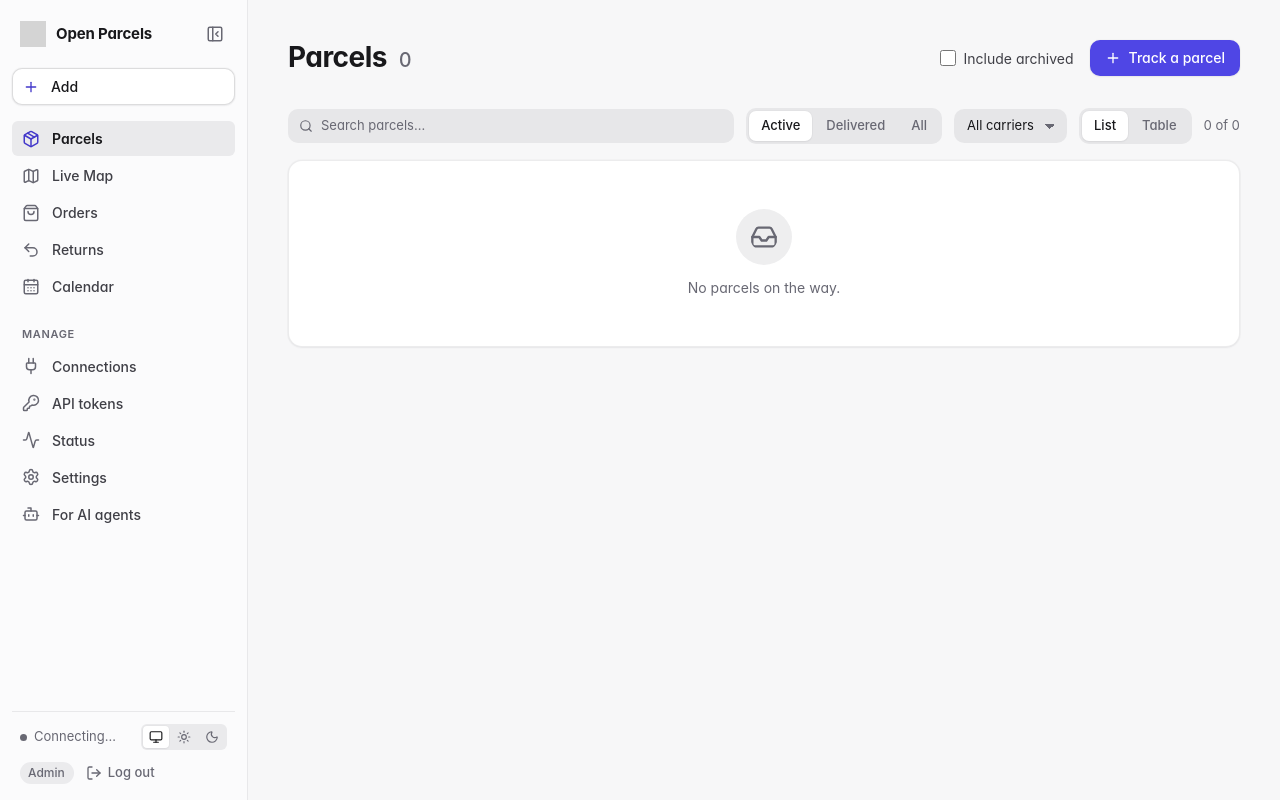
Test case: parcel list › adds a parcel with carrier detection and sends the CSRF header
Click the button "Track a parcel" at (1165,58), box [1090,40,1240,76]
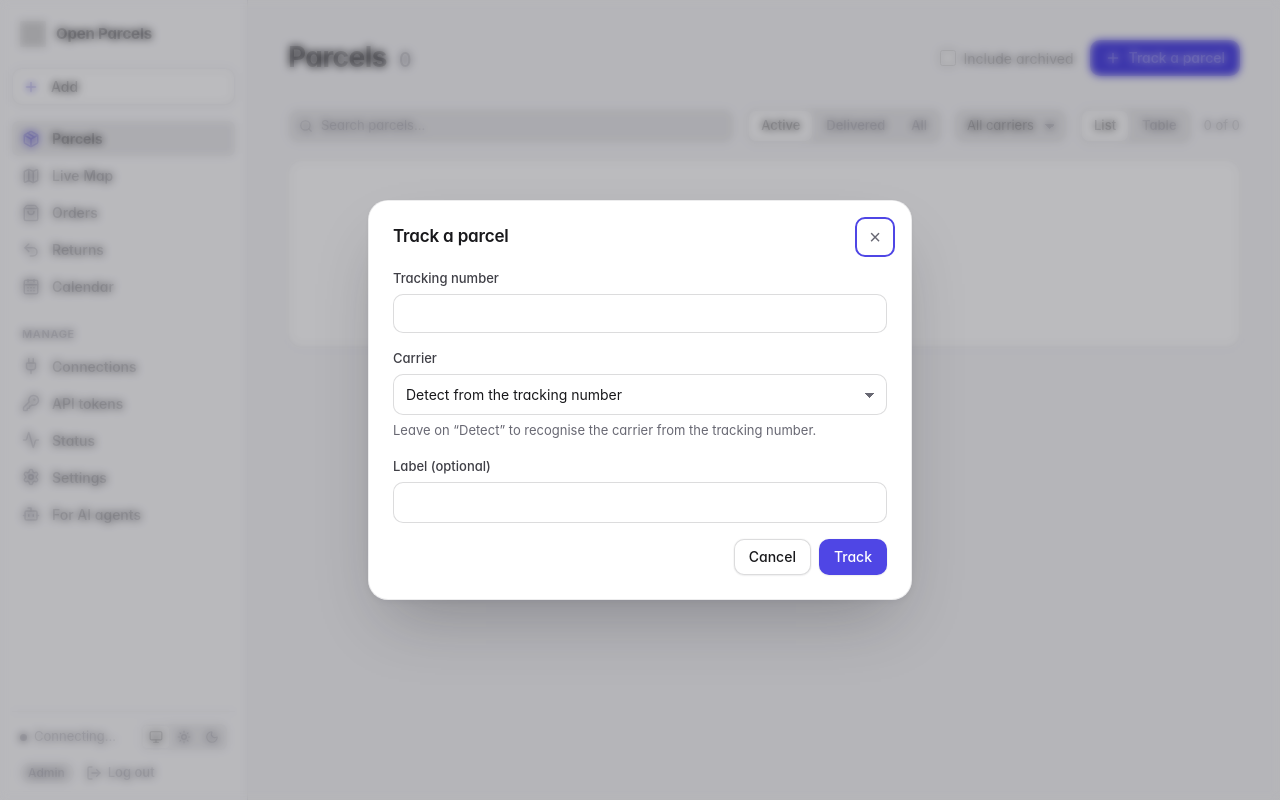
Type " TEST0000000009 " into the field labelled "Tracking number" at (640,314), box [393,294,887,333]
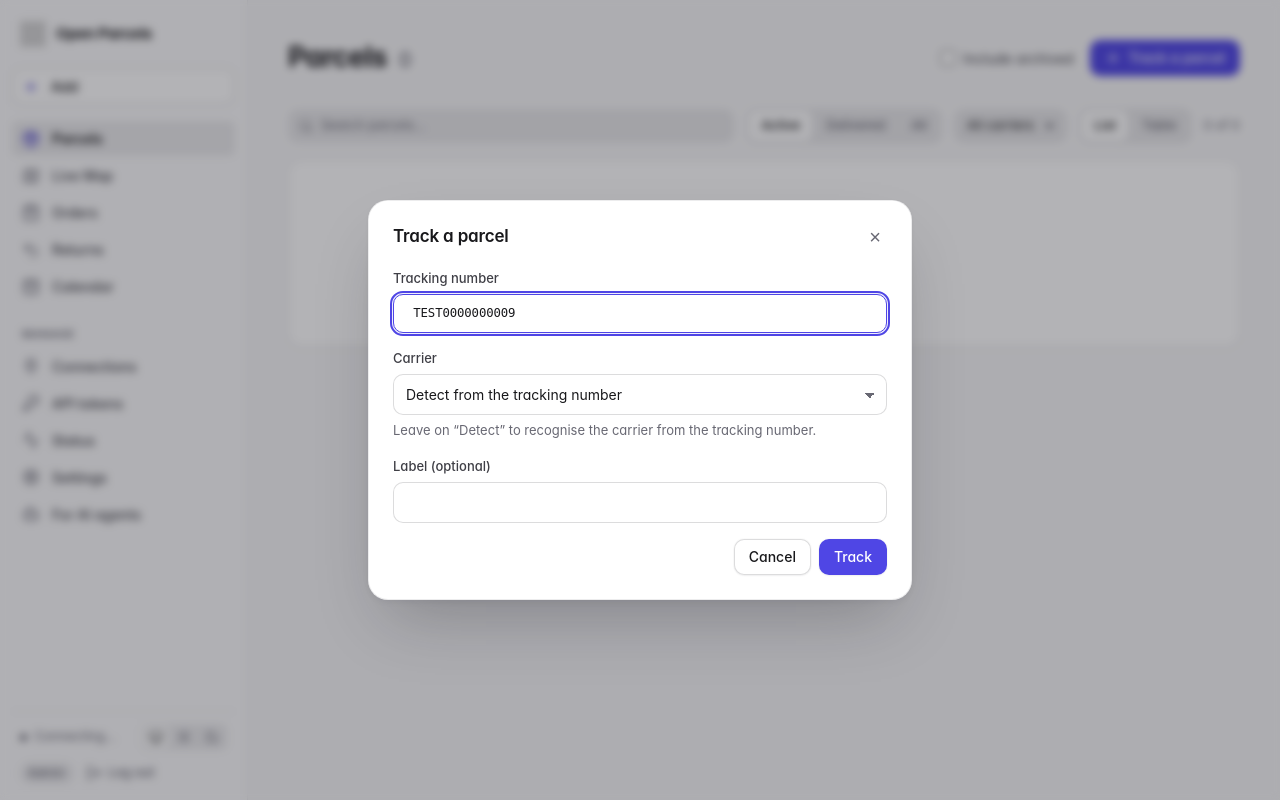
Click the button "Track" at (853,557), box [819,539,887,575]
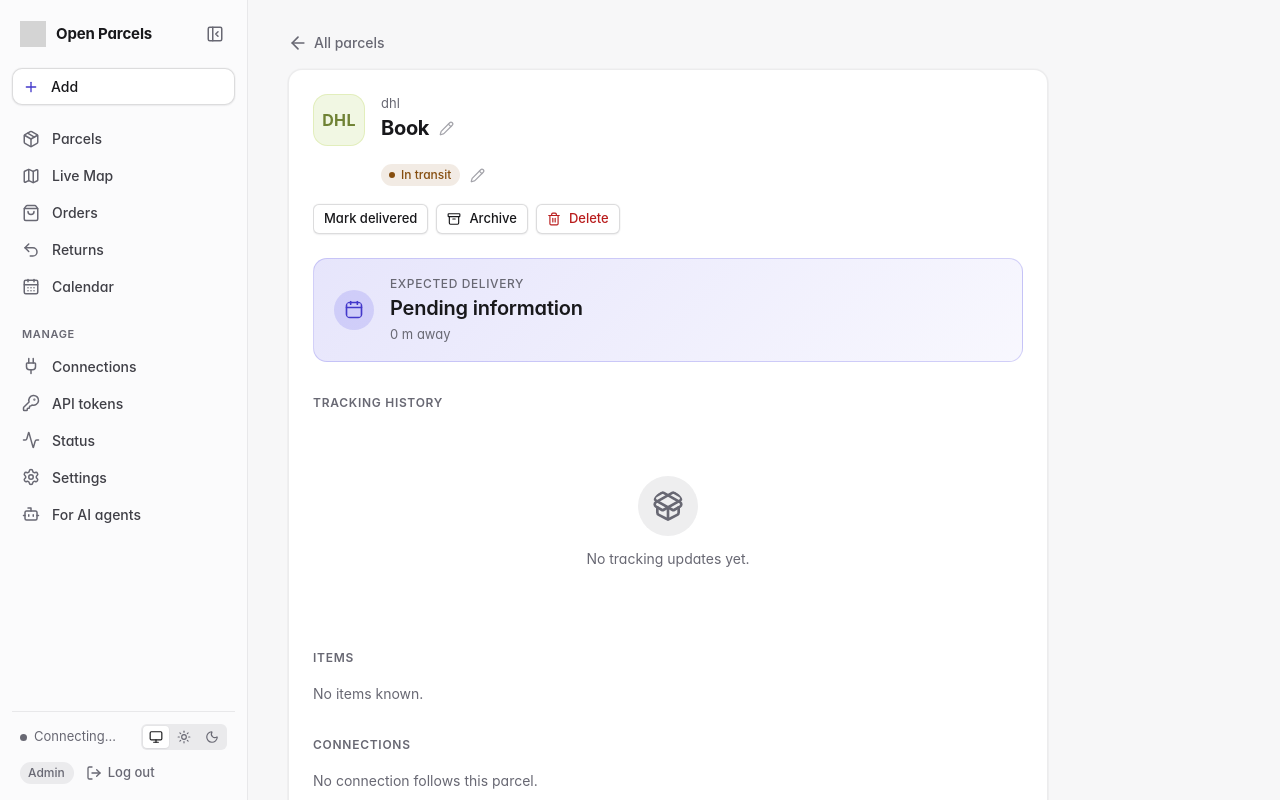
Now the heading "Book" is shown, box [381,117,429,140]
